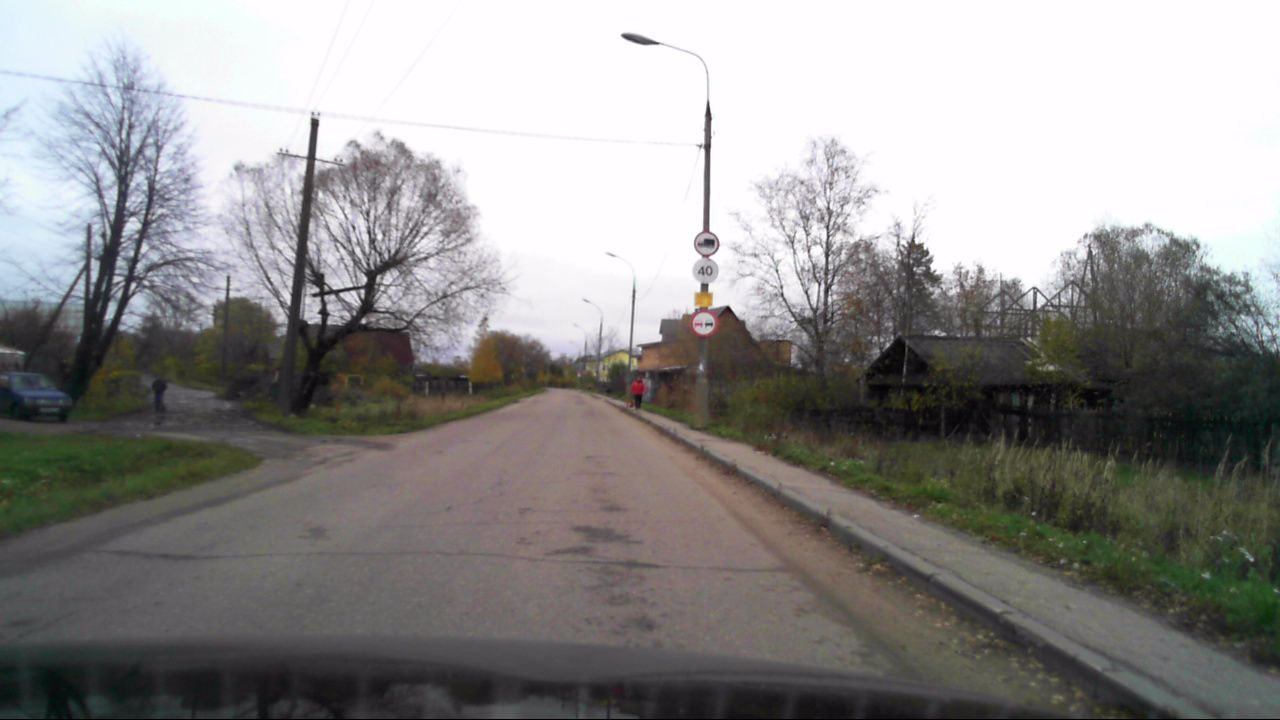speed_warning_40: (692, 259, 718, 285)
